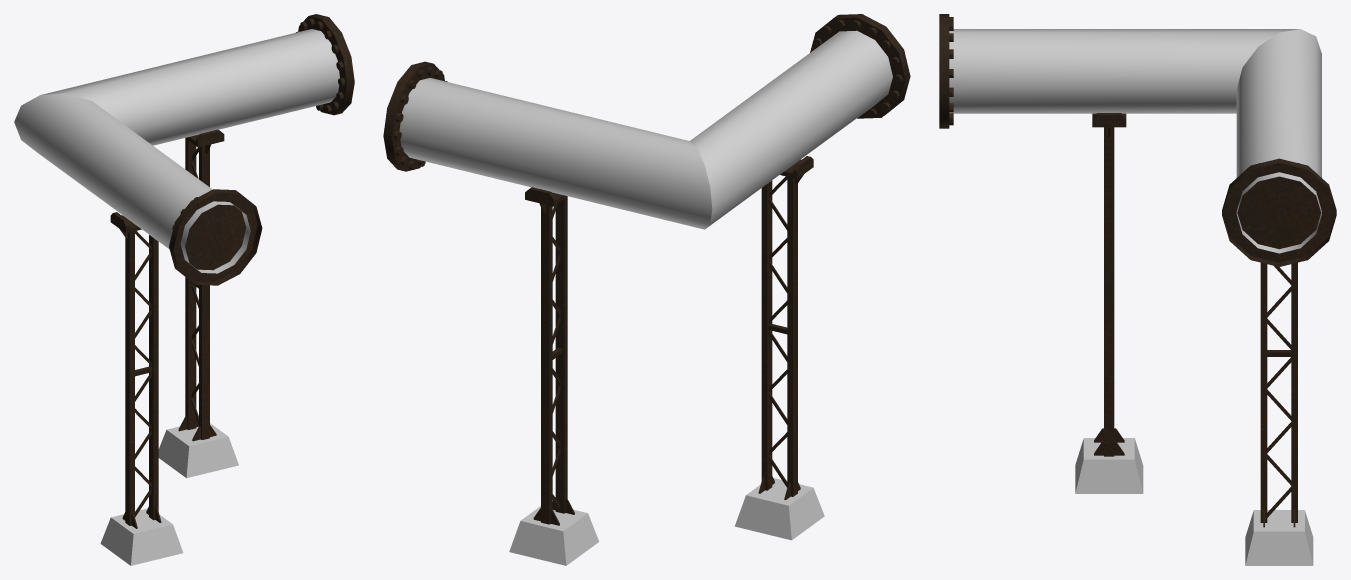
The model's file is pipe_cx_3.fbx.
The picture shows the model from 3 angles, left to right: view 1: azimuth 30°, elevation 25°; view 2: azimuth 150°, elevation 25°; view 3: azimuth 270°, elevation 25°; orthographic projection. The views are drawn at different scales.
Parts seen in each view (by area): view 1: pipe_cx_3; view 2: pipe_cx_3; view 3: pipe_cx_3.
Boxes of the visible parts, x1,y1,x2,y2 form: pipe_cx_3: [14, 14, 354, 565]; pipe_cx_3: [383, 14, 910, 565]; pipe_cx_3: [939, 14, 1336, 565].
Size of the model in its own units: 2.34 by 2.34 by 2.99.
